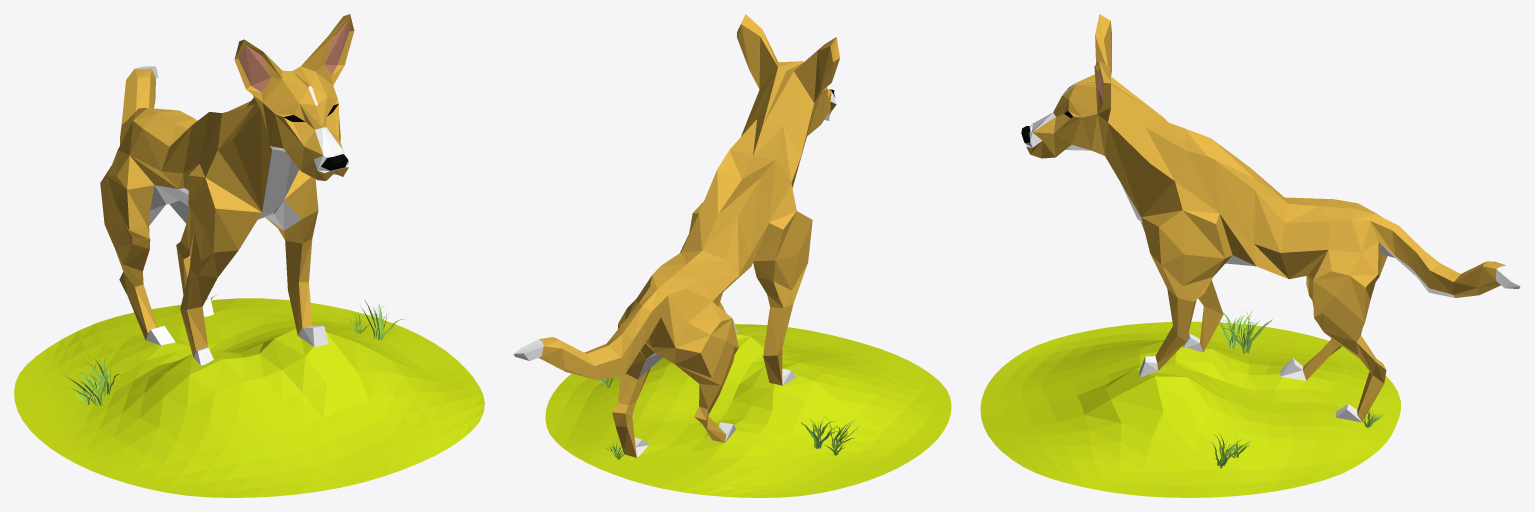
The model's file is jiku.glb.
3 views of the same model, side by side, from view 1: azimuth 30°, elevation 25°; view 2: azimuth 150°, elevation 25°; view 3: azimuth 270°, elevation 25° (orthographic). The views are drawn at different scales.
Visible parts, largest first — view 1: jiku; view 2: jiku; view 3: jiku.
Boxes of the visible parts, x1=… form: jiku: x1=14, y1=14, x2=484, y2=497; jiku: x1=513, y1=14, x2=951, y2=497; jiku: x1=980, y1=14, x2=1520, y2=497.
Bounding box in the file's own units: 3.16 × 3.12 × 4.1.
